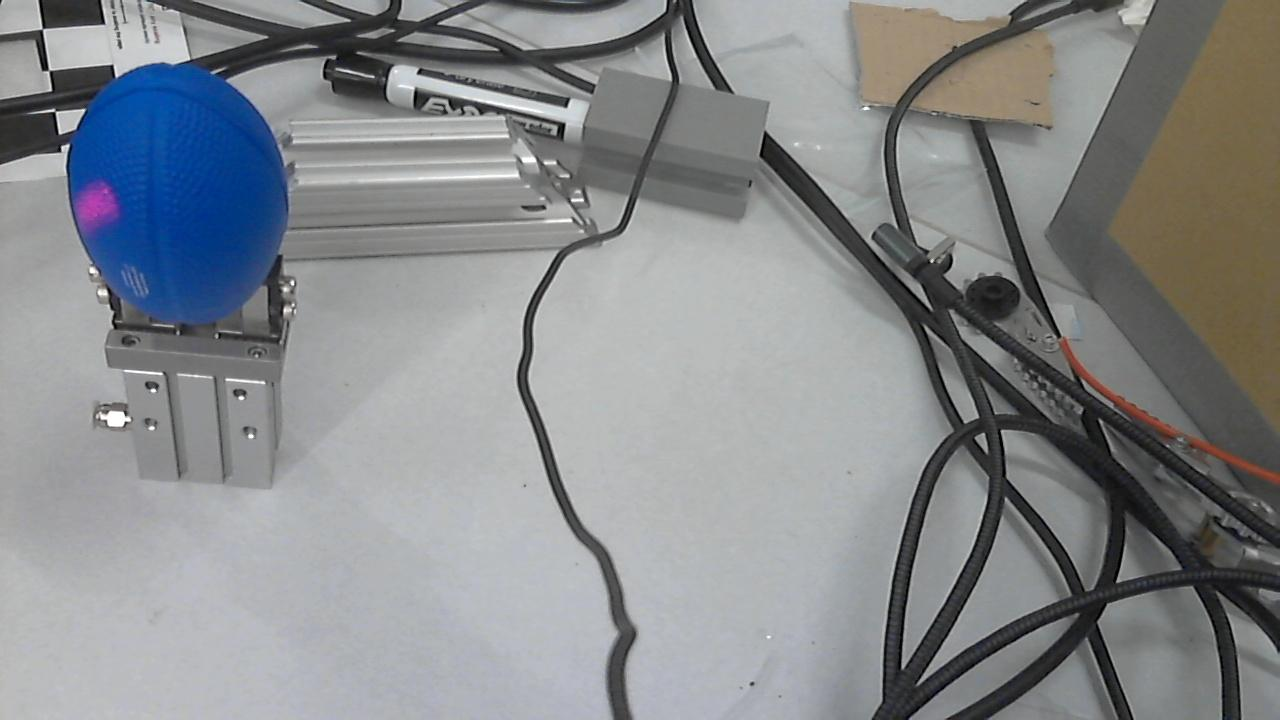Object wireless earbud charging case - Material plastic - Pdfname qzJIPQkli2jB: (57, 169, 138, 235)
